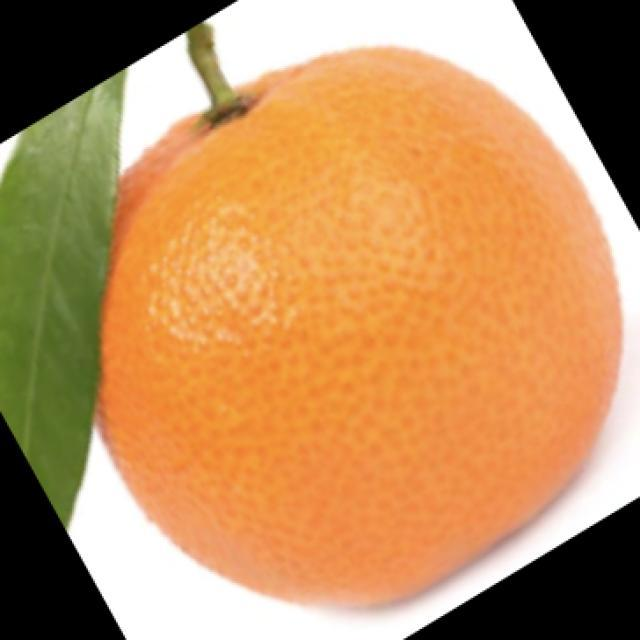matang: (98, 47, 622, 602)
